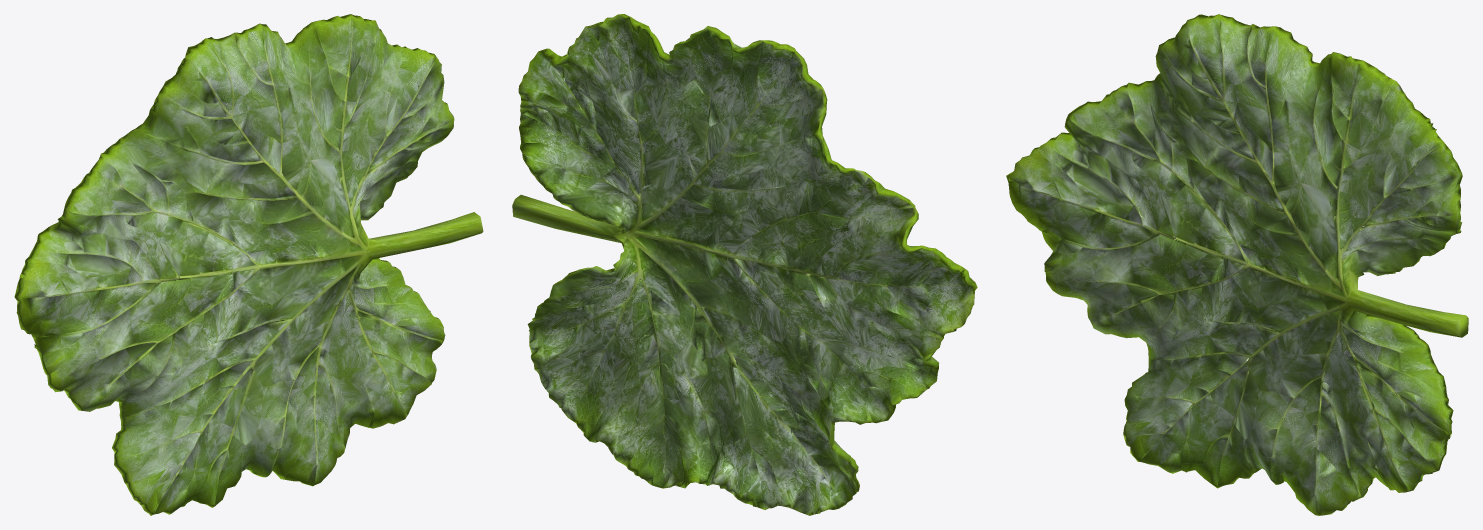
The model's file is squash_powdery_mildew.glb.
The picture shows the model from 3 angles, left to right: view 1: azimuth 30°, elevation 25°; view 2: azimuth 150°, elevation 25°; view 3: azimuth 330°, elevation 25°; orthographic projection.
Parts seen in each view (by area): view 1: squash_powdery_mildew; view 2: squash_powdery_mildew; view 3: squash_powdery_mildew.
Part boxes in pixels (x1,y1,x2,y2): squash_powdery_mildew: (14,14,483,515); squash_powdery_mildew: (512,14,977,515); squash_powdery_mildew: (1006,14,1468,515).
Bounding box in the file's own units: 1.02 × 0.9999 × 0.1232.
1 material, 1 textured.
